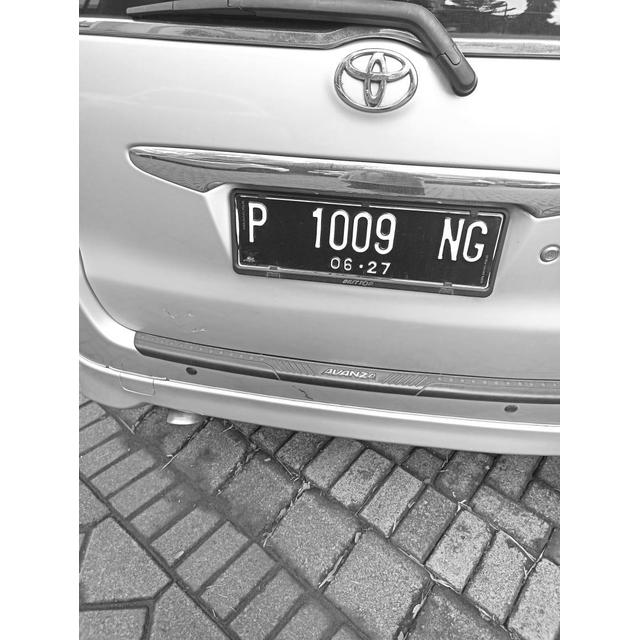license: (245, 199, 492, 278)
